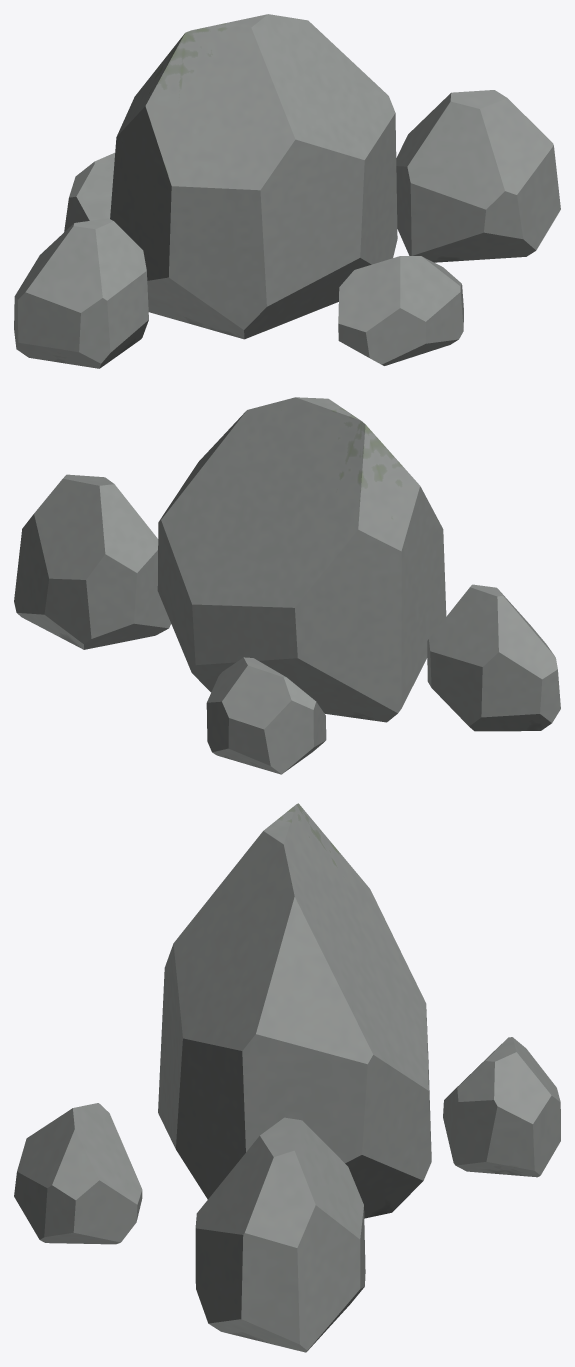
The model's file is hills_rock_cluster_medium.glb.
3 renders of one model, top to bottom at view 1: azimuth 30°, elevation 25°; view 2: azimuth 150°, elevation 25°; view 3: azimuth 270°, elevation 25°, orthographic. The views are drawn at different scales.
Parts seen in each view (by area): view 1: HillsRockClusterMedium; view 2: HillsRockClusterMedium; view 3: HillsRockClusterMedium.
Part boxes in pixels (x1,y1,x2,y2): HillsRockClusterMedium: [14, 14, 560, 368]; HillsRockClusterMedium: [14, 397, 560, 774]; HillsRockClusterMedium: [14, 803, 560, 1352].
Size of what is drawn, in the model's own units: 2.8 by 1.4 by 2.
Materials: 1 (1 with a texture image).
